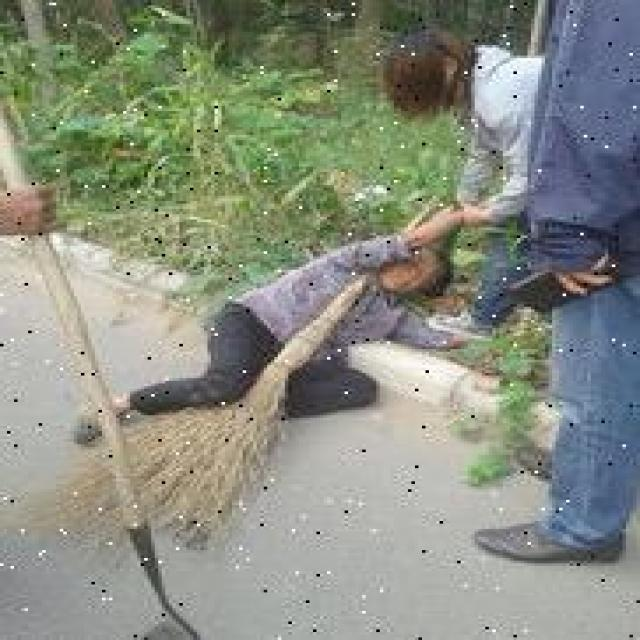fall: (84, 217, 464, 431)
